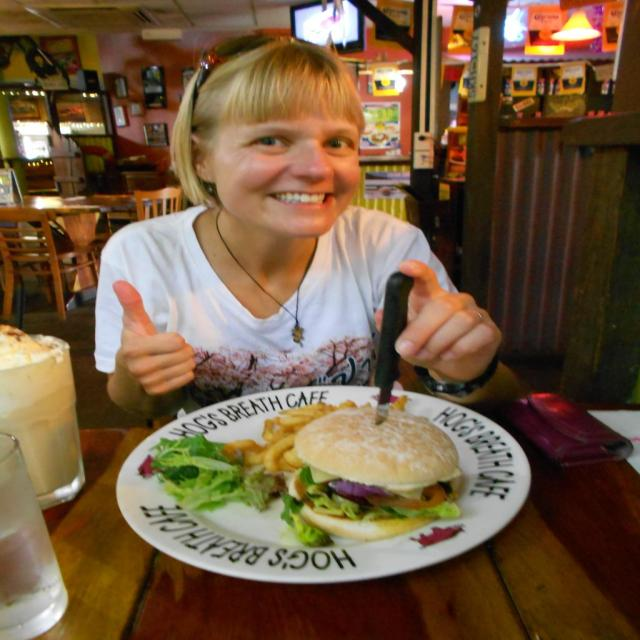nomask: (212, 72, 360, 234)
